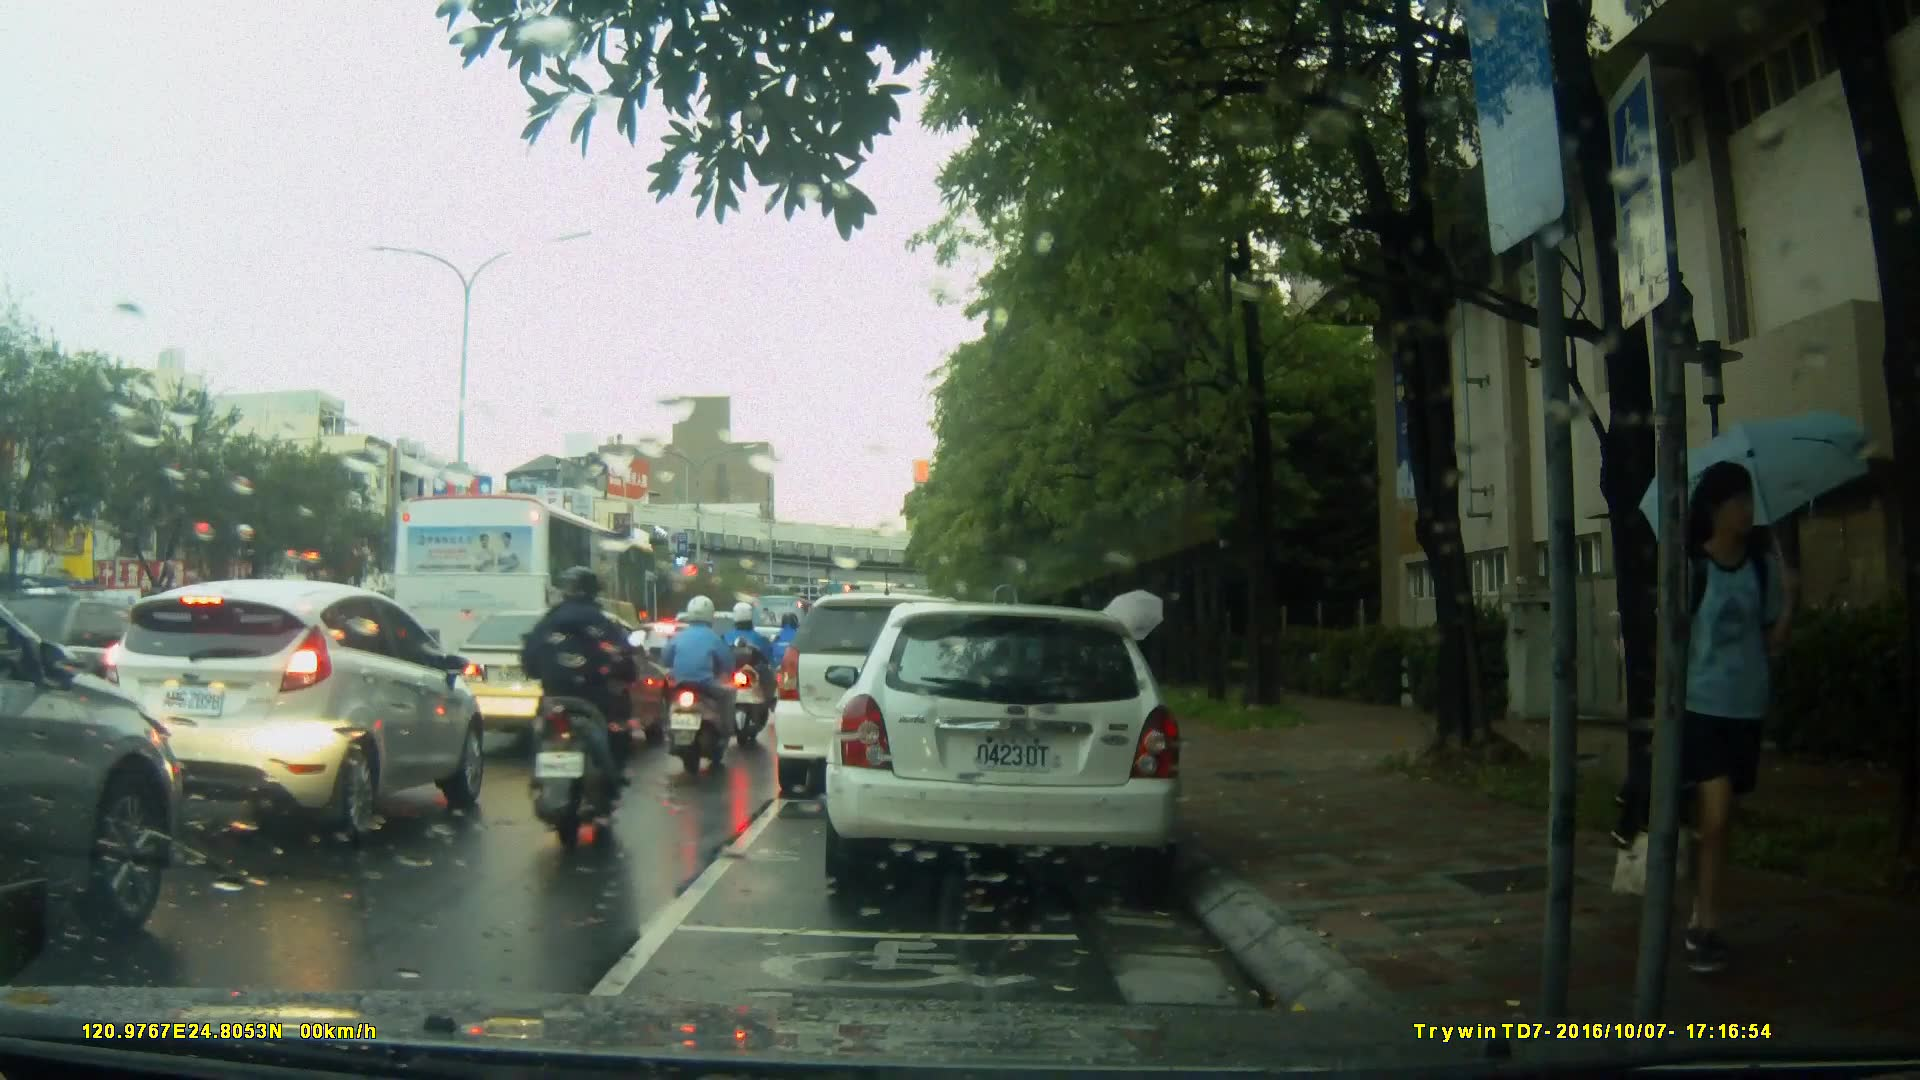pedestrian: (1622, 463, 1780, 982)
rider: (515, 558, 649, 842), (665, 596, 732, 770), (726, 597, 781, 757), (767, 610, 814, 728)
vehicle: (835, 594, 1194, 898), (101, 576, 489, 846), (1, 547, 184, 971), (390, 492, 663, 723), (776, 590, 1026, 784), (439, 607, 673, 756), (618, 621, 725, 711)
